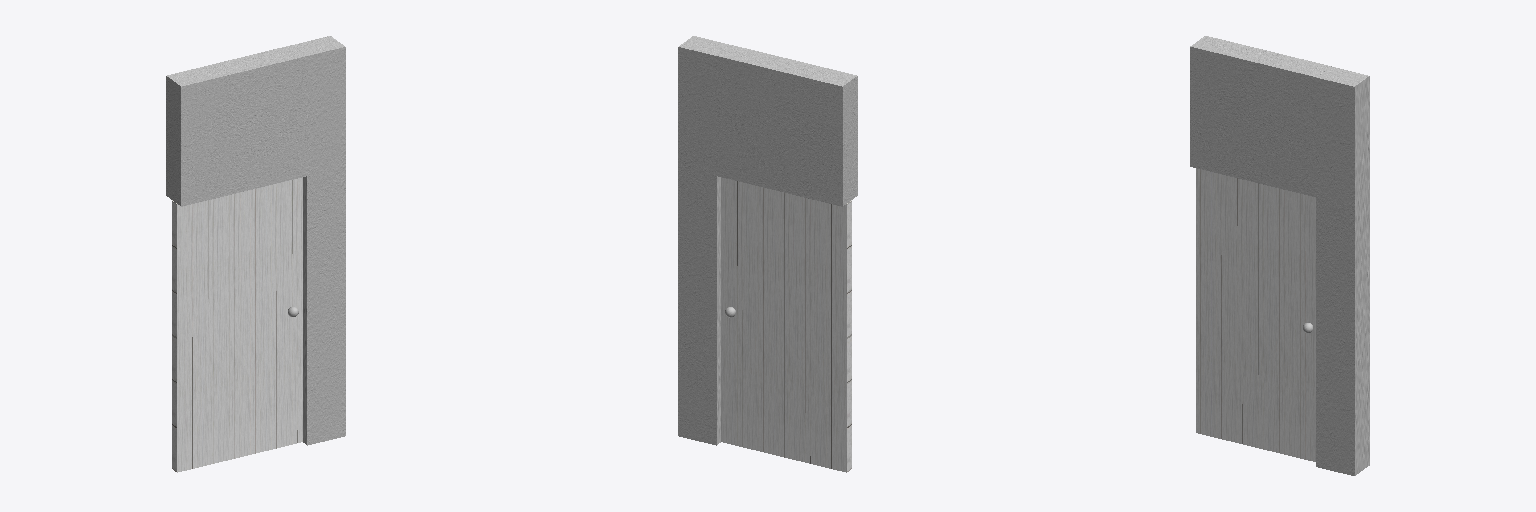
3 renders of one model, left to right at view 1: azimuth 30°, elevation 25°; view 2: azimuth 150°, elevation 25°; view 3: azimuth 330°, elevation 25°, orthographic.
Visible parts, largest first — view 1: Cube_Cube.001, Cube.002_Cube.003, Cube.001_Cube.002; view 2: Cube_Cube.001, Cube.002_Cube.003, Cube.001_Cube.002; view 3: Cube_Cube.001, Cube.001_Cube.002, Cube.002_Cube.003.
Boxes of the visible parts, x1,y1,x2,y2 form: Cube_Cube.001: [172, 177, 302, 472]; Cube.002_Cube.003: [166, 45, 307, 206]; Cube.001_Cube.002: [293, 36, 345, 445]; Cube_Cube.001: [721, 177, 851, 472]; Cube.002_Cube.003: [716, 45, 857, 206]; Cube.001_Cube.002: [678, 36, 730, 445]; Cube_Cube.001: [1196, 168, 1315, 461]; Cube.001_Cube.002: [1316, 67, 1369, 475]; Cube.002_Cube.003: [1190, 36, 1331, 196].
Size of the model in its own units: 4.52 by 10.25 by 0.7204.
Materials: 3 (2 with a texture image).